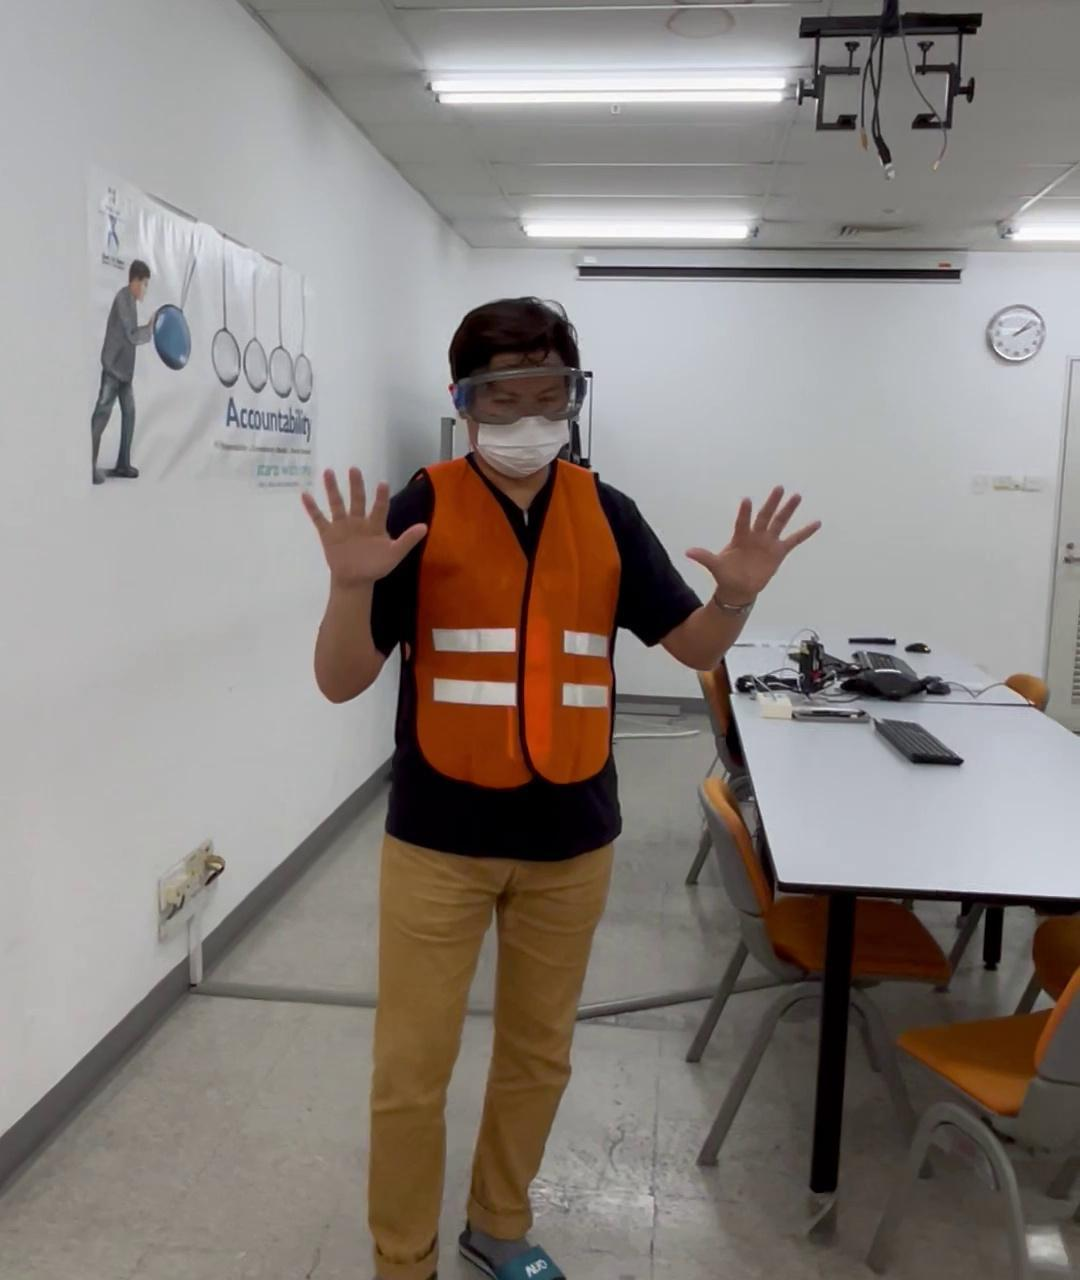No-gloves: (292, 453, 431, 586), (680, 478, 821, 605)
